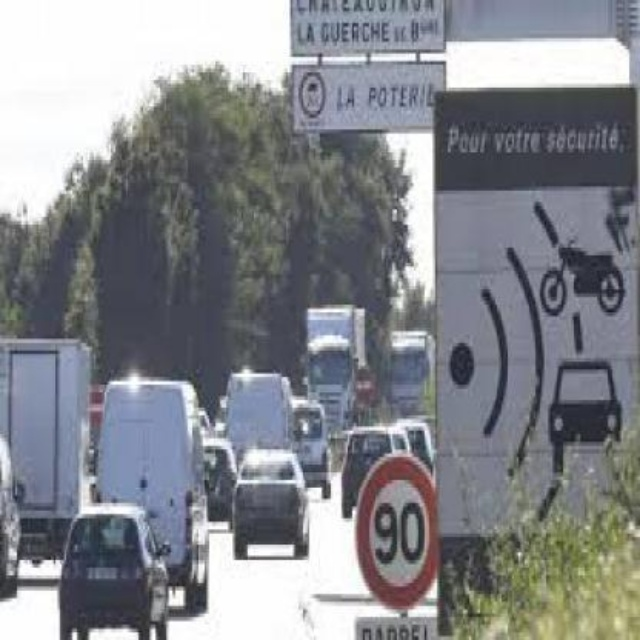Tốc độ tối đa cho phép 90km/h: (356, 457, 438, 605)
